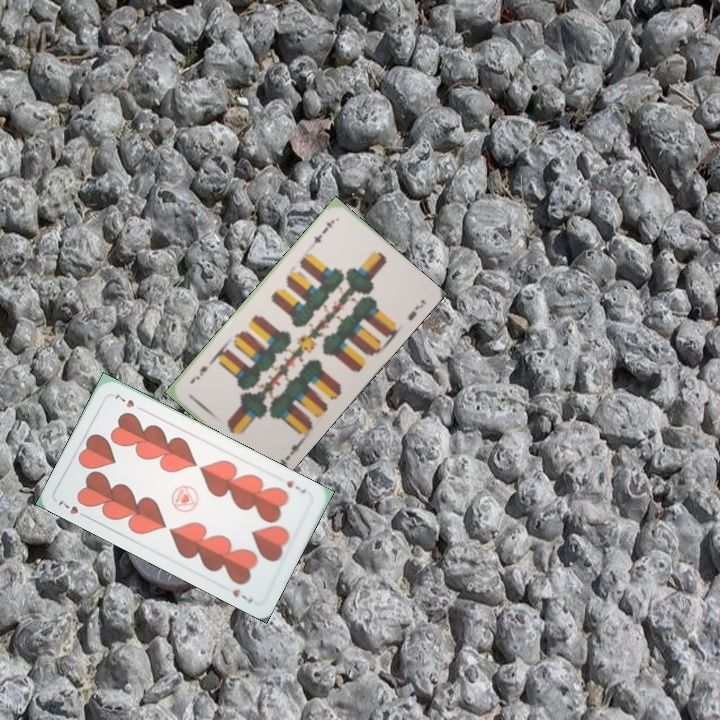E7: (275, 437, 305, 471), (310, 216, 337, 246)
H7: (54, 497, 91, 521), (282, 476, 308, 496)
